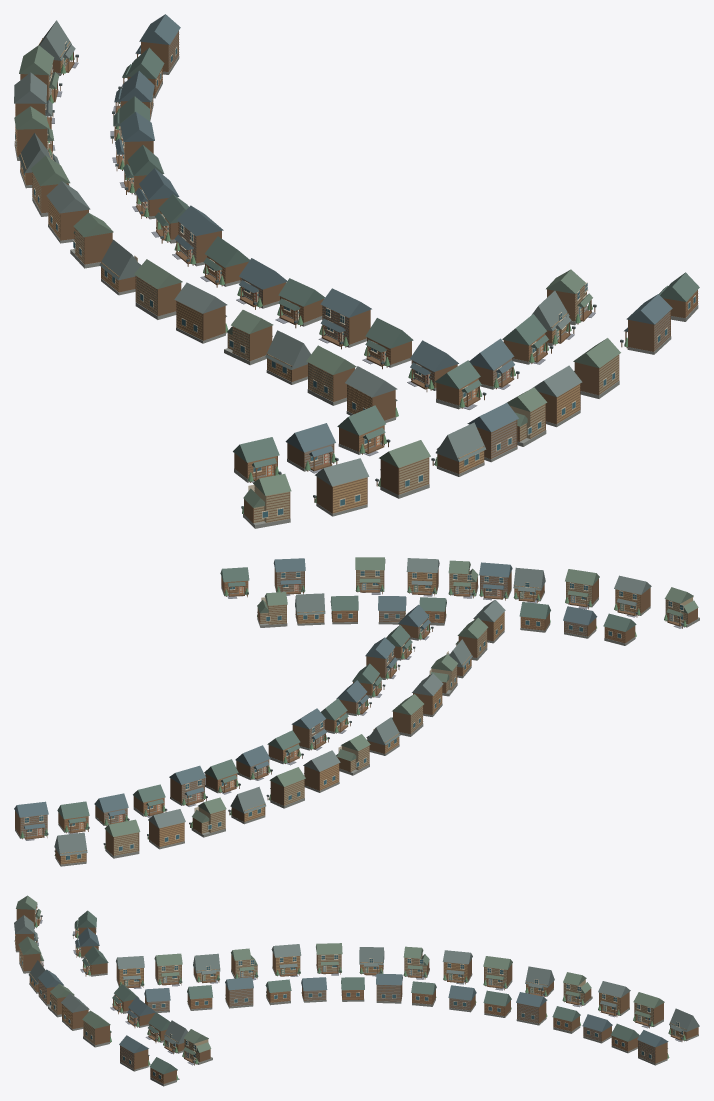
The model's file is rivergate.glb.
3 renders of one model, top to bottom at view 1: azimuth 30°, elevation 25°; view 2: azimuth 150°, elevation 25°; view 3: azimuth 270°, elevation 25°, orthographic. The views are drawn at different scales.
Parts seen in each view (by area): view 1: river_house_05.001, river_house_07.001, river_house_05.004, river_house_02.003, river_house_03.001, river_house_02.002, river_house_07.004, river_house_07.002, river_house_07.003, river_house_01.001, river_house_05.003, river_house_03.004 (+35 smaller); view 2: river_house_05.001, river_house_05.006, river_house_02.005, river_house_05.005, river_house_07.006, river_house_07.001, river_house_05.002, river_house_07.005, river_house_02.006, river_house_02.001, river_house_03.001, river_house_03.006 (+36 smaller); view 3: river_house_05.006, river_house_05.005, river_house_05.004, river_house_07.006, river_house_07.005, river_house_02.005, river_house_05.003, river_house_02.006, river_house_07.003, river_house_02.003, river_house_03.006, river_house_07.004 (+35 smaller).
Boxes of the visible parts, x1,y1,x2,y2 form: river_house_05.001: [313, 458, 369, 516]; river_house_07.001: [375, 440, 430, 498]; river_house_05.004: [174, 282, 228, 343]; river_house_02.003: [318, 288, 371, 349]; river_house_03.001: [241, 474, 291, 528]; river_house_02.002: [620, 294, 672, 354]; river_house_07.004: [134, 259, 182, 319]; river_house_07.002: [573, 338, 620, 398]; river_house_07.003: [306, 345, 356, 405]; river_house_01.001: [431, 422, 486, 476]; river_house_05.003: [345, 366, 398, 422]; river_house_03.004: [224, 310, 273, 365]; river_house_05.001: [614, 575, 651, 617]; river_house_05.006: [147, 809, 185, 849]; river_house_02.005: [169, 765, 207, 806]; river_house_05.005: [303, 750, 340, 792]; river_house_07.006: [103, 819, 140, 858]; river_house_07.001: [565, 569, 599, 609]; river_house_05.002: [406, 558, 439, 596]; river_house_07.005: [266, 767, 305, 808]; river_house_02.006: [14, 801, 48, 840]; river_house_02.001: [479, 562, 512, 600]; river_house_03.001: [664, 587, 699, 628]; river_house_03.006: [189, 797, 226, 837]; river_house_05.006: [598, 981, 630, 1017]; river_house_05.005: [442, 950, 472, 984]; river_house_05.004: [271, 944, 301, 976]; river_house_07.006: [633, 992, 664, 1028]; river_house_07.005: [483, 956, 512, 990]; river_house_02.005: [516, 992, 547, 1025]; river_house_05.003: [116, 956, 144, 988]; river_house_02.006: [637, 1030, 669, 1065]; river_house_07.003: [154, 953, 182, 986]; river_house_02.003: [225, 977, 253, 1008]; river_house_03.006: [562, 972, 592, 1007]; river_house_07.004: [316, 943, 342, 975].
Size of the model in its own units: 106 by 12.12 by 185.
